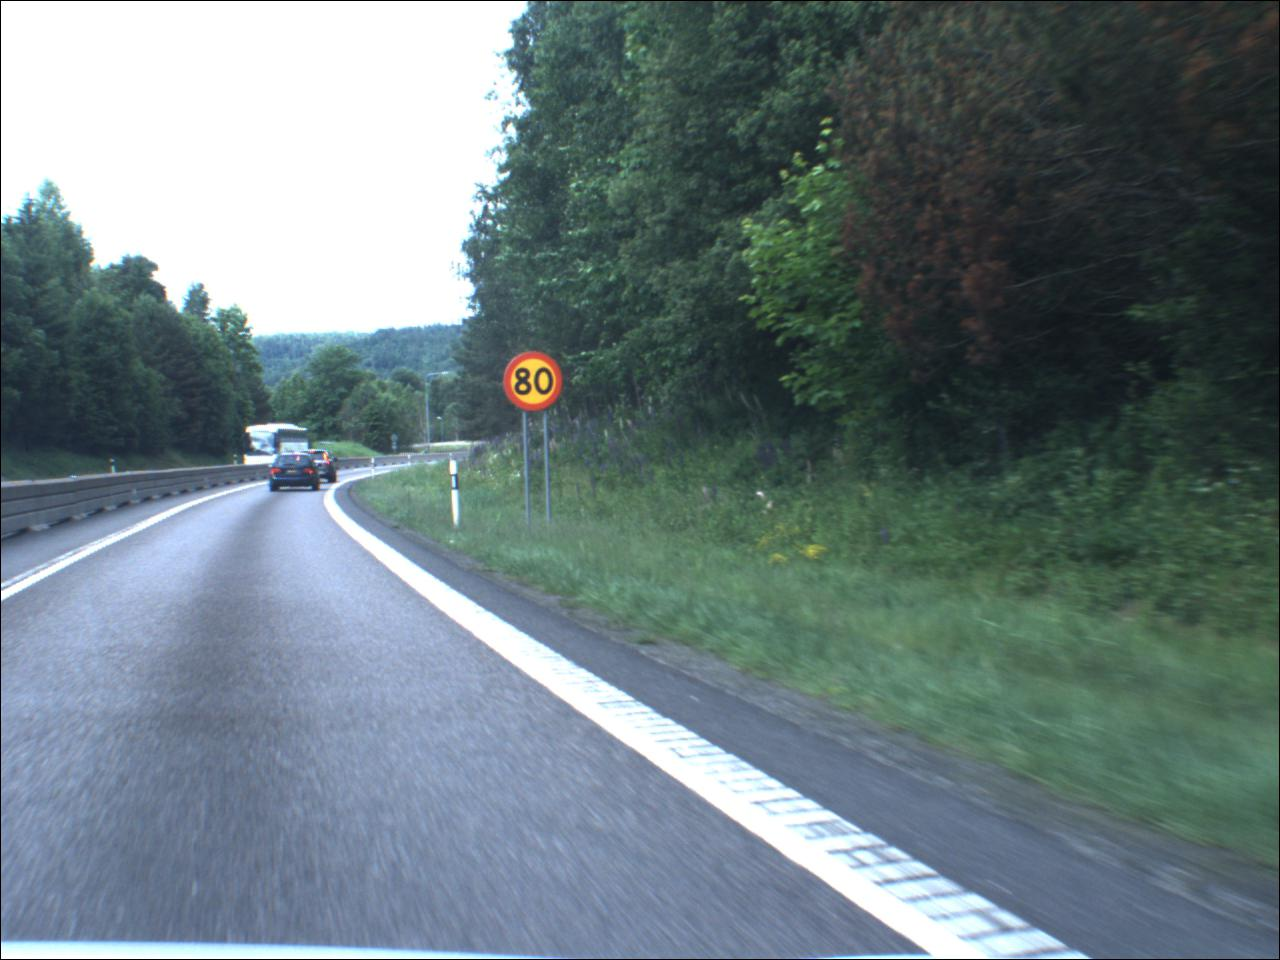80_SIGN: (503, 353, 565, 412)
